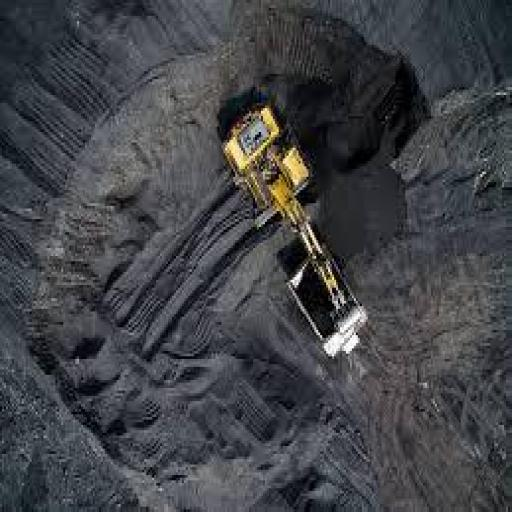Proclainer: (211, 94, 373, 361)
